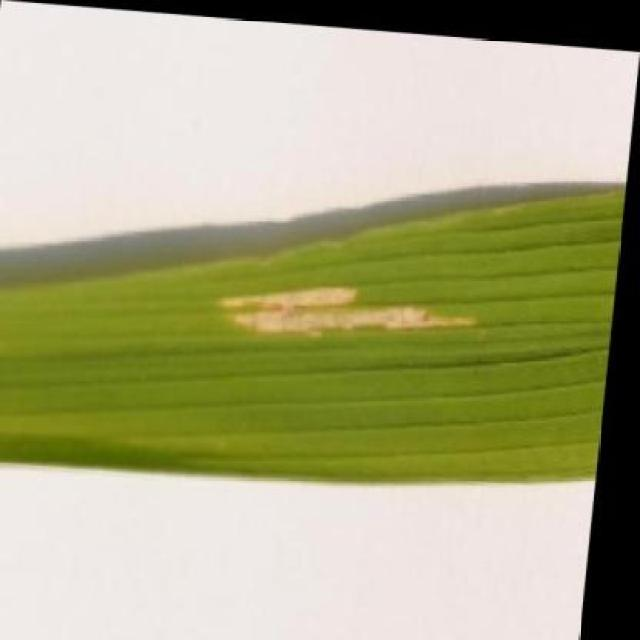Brown_Spot: (0, 130, 629, 505)
